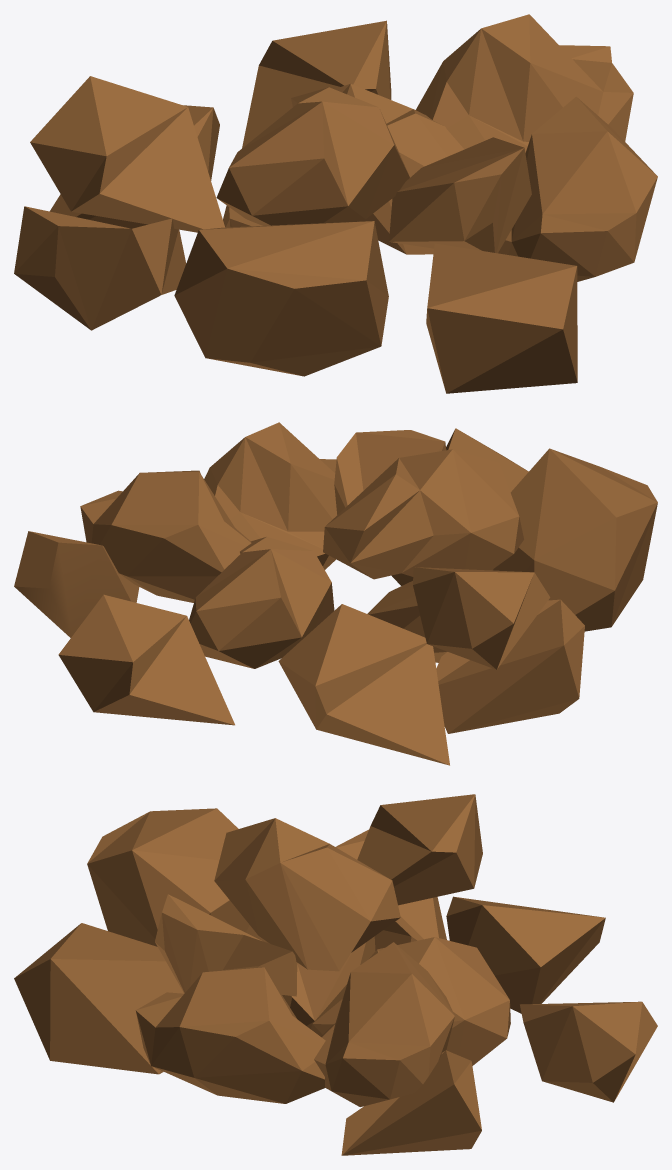
The model's file is CopperPileBig.fbx.
The picture shows the model from 3 angles, top to bottom: view 1: azimuth 30°, elevation 25°; view 2: azimuth 150°, elevation 25°; view 3: azimuth 270°, elevation 25°; orthographic projection. The views are drawn at different scales.
Visible parts, largest first — view 1: CopperPile1; view 2: CopperPile1; view 3: CopperPile1.
Part boxes in pixels (x1=…): CopperPile1: x1=14, y1=14, x2=657, y2=393; CopperPile1: x1=14, y1=422, x2=657, y2=765; CopperPile1: x1=14, y1=794, x2=657, y2=1155.
Bounding box in the file's own units: 17.44 × 6.23 × 18.04.
